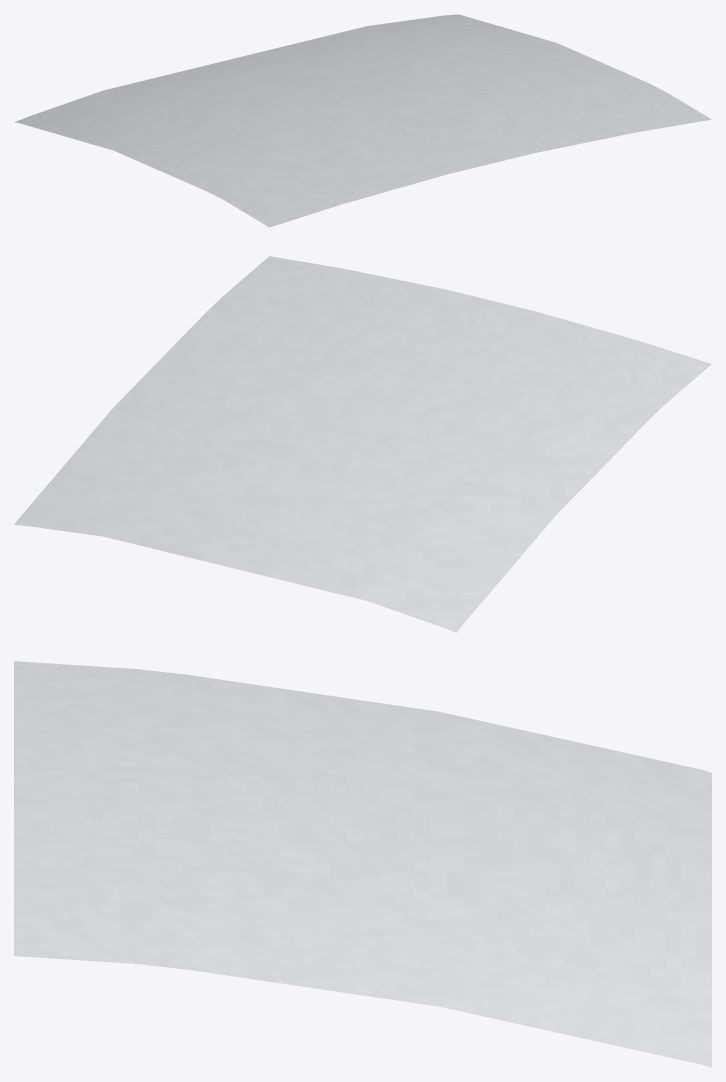
File: spheroid_medium_2_2_1.obj
3 renders of one model, top to bottom at view 1: azimuth 30°, elevation 25°; view 2: azimuth 150°, elevation 25°; view 3: azimuth 270°, elevation 25°, orthographic. The views are drawn at different scales.
Visible parts, largest first — view 1: spheroid_medium_2_2_1; view 2: spheroid_medium_2_2_1; view 3: spheroid_medium_2_2_1.
Boxes of the visible parts, <box> form: spheroid_medium_2_2_1: <box>15,14,711,227</box>; spheroid_medium_2_2_1: <box>14,256,711,632</box>; spheroid_medium_2_2_1: <box>14,661,711,1067</box>.
Bounding box in the file's own units: 3 × 0.5929 × 3.
